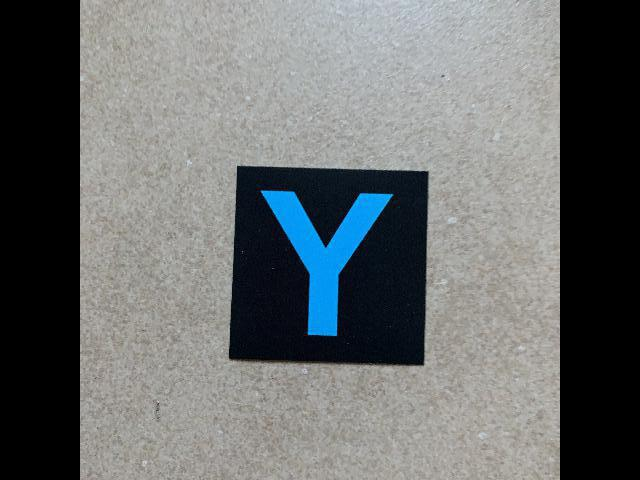y: (228, 165, 431, 368)
